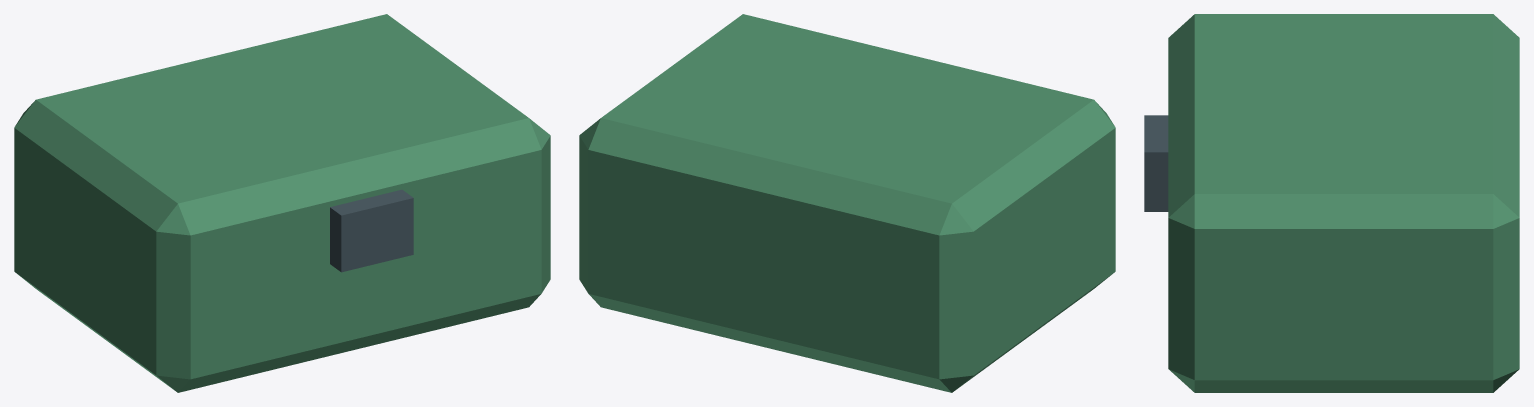
Rendered from set_wicker_basket.glb.
3 views of the same model, side by side, from view 1: azimuth 30°, elevation 25°; view 2: azimuth 150°, elevation 25°; view 3: azimuth 270°, elevation 25° (orthographic). The views are drawn at different scales.
Parts seen in each view (by area): view 1: set_wicker_basket; view 2: set_wicker_basket; view 3: set_wicker_basket.
Boxes of the visible parts, x1,y1,x2,y2 form: set_wicker_basket: (14,14,550,392); set_wicker_basket: (579,14,1115,392); set_wicker_basket: (1144,14,1519,392).
Size of the model in its own units: 0.218 by 0.1 by 0.171.
